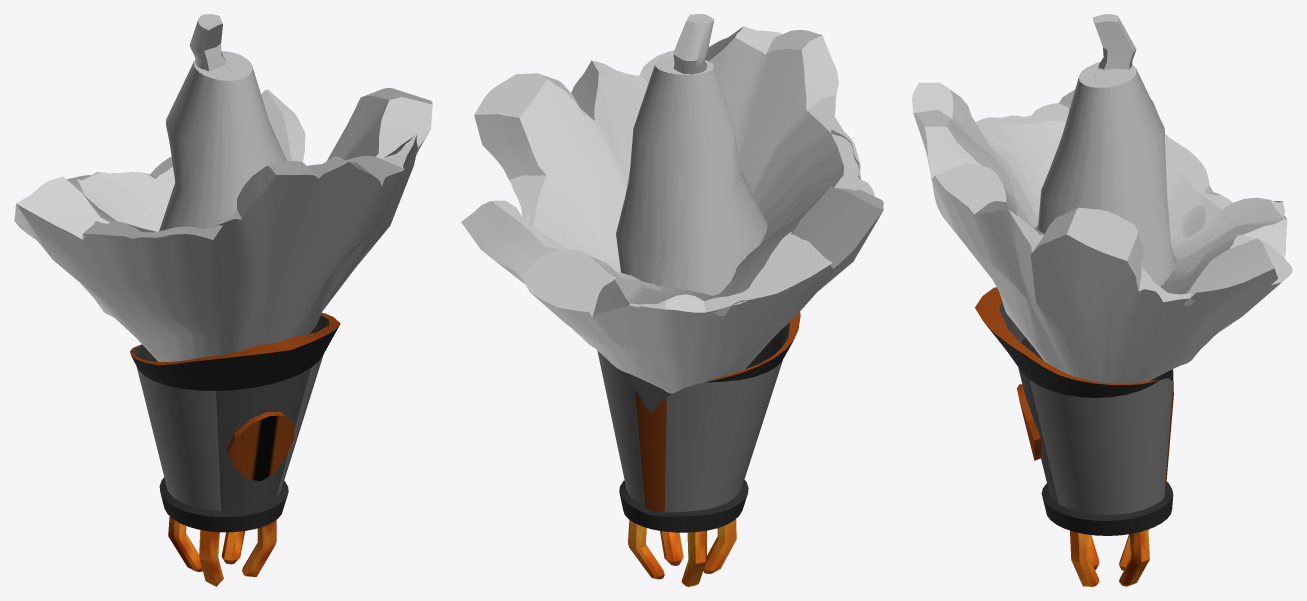
Rendered from Hand.fbx.
The picture shows the model from 3 angles, left to right: view 1: azimuth 30°, elevation 25°; view 2: azimuth 150°, elevation 25°; view 3: azimuth 270°, elevation 25°; orthographic projection.
Visible parts, largest first — view 1: Smoke, Body; view 2: Smoke, Body; view 3: Smoke, Body.
Part boxes in pixels (<box>): Smoke: <box>14,14,432,361</box>; Body: <box>130,313,340,586</box>; Smoke: <box>461,14,883,393</box>; Body: <box>597,312,800,586</box>; Smoke: <box>912,14,1292,383</box>; Body: <box>975,287,1173,586</box>.
Size of the model in its own units: 1049 by 1385 by 864.
